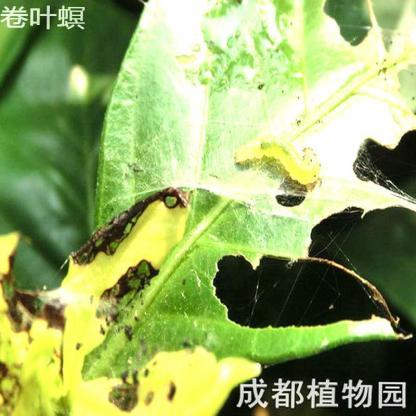leaf-folder: (238, 128, 347, 194)
